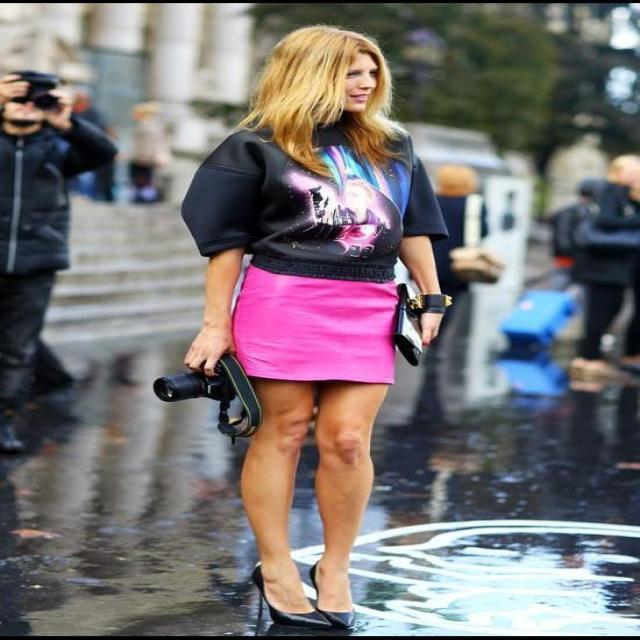Tshirt: (180, 116, 452, 280)
skirt: (231, 258, 401, 387)
